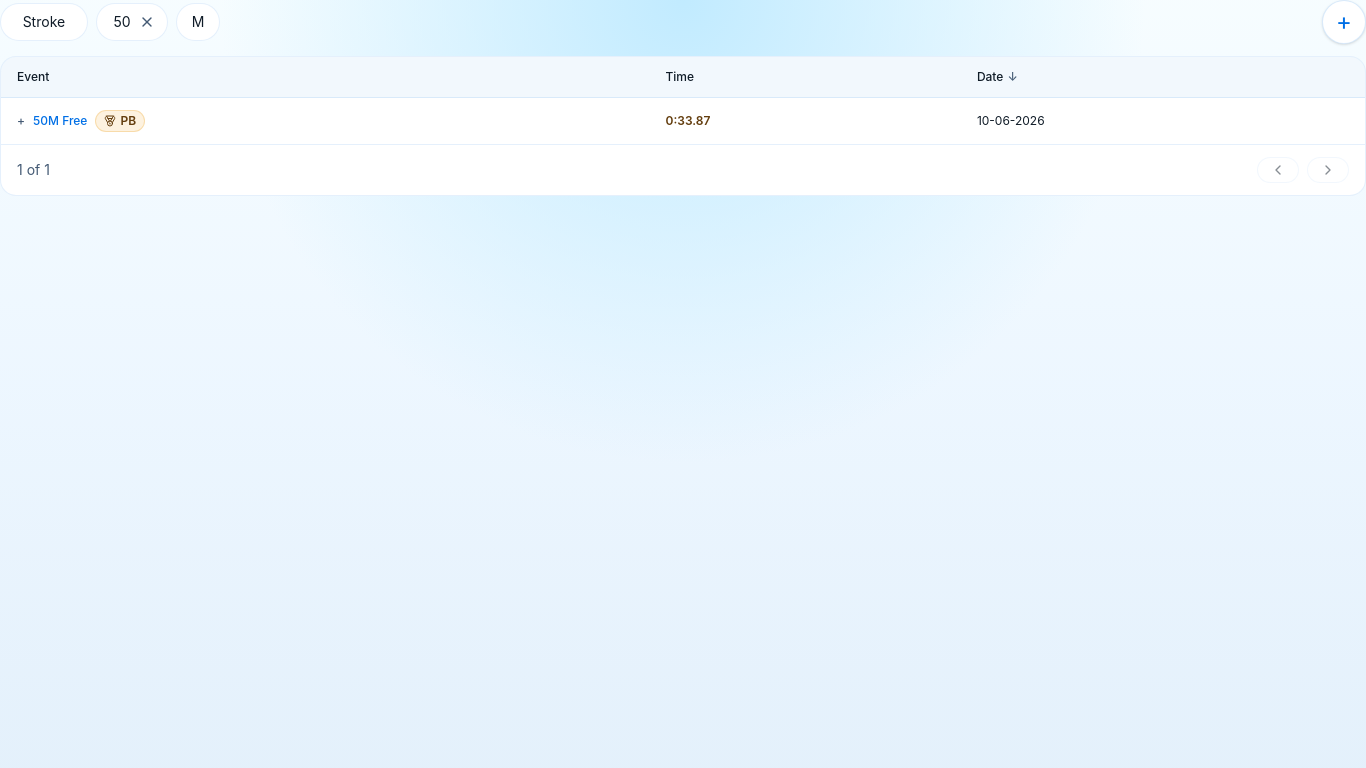
it: Performances › filters rows by distance
Expected: the text "50M Free" is shown, [33,113,87,129]
Step 1. Click the button named "Add performance" → x=1344, y=22, box [1322,0,1365,44]
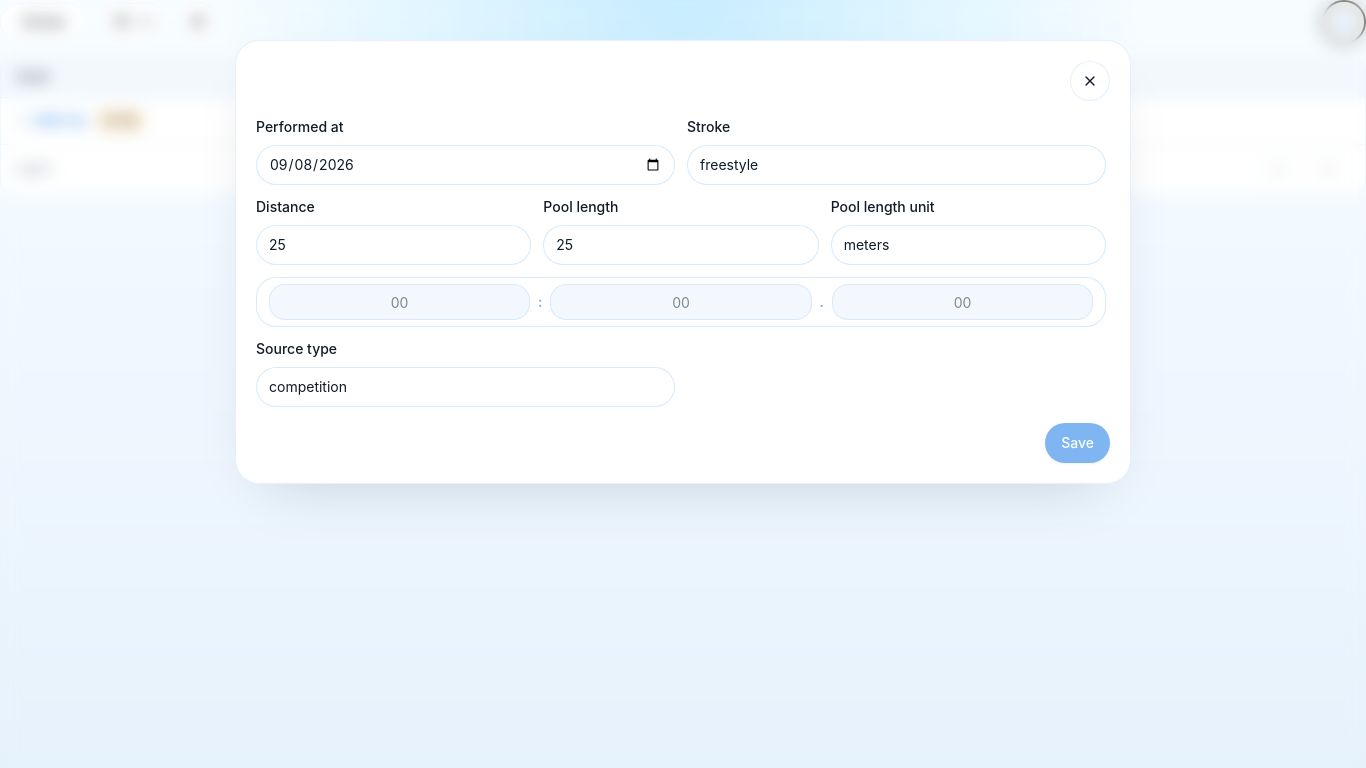
Now the button named "Close" is shown, box [1070,61,1110,101]
